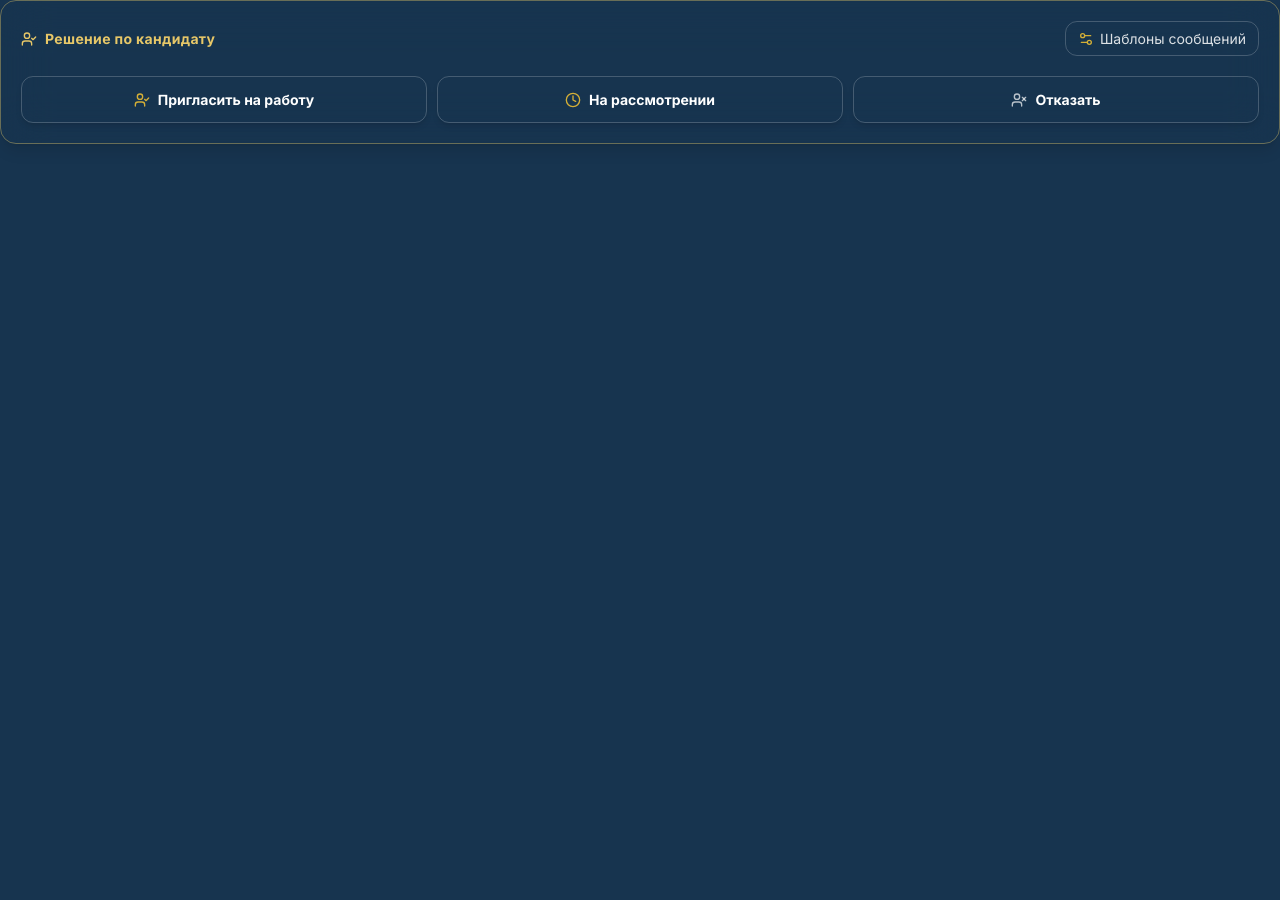
Test: CRM Decisions & Training Summary › loads custom decision templates, auto-selects last used template, and renders Apple Liquid Glass modal
The width and height of the screenshot is (1280, 900).
Step 1. Click the button "Пригласить на работу" → (224, 100), box top-left (21, 76), bottom-right (427, 123)
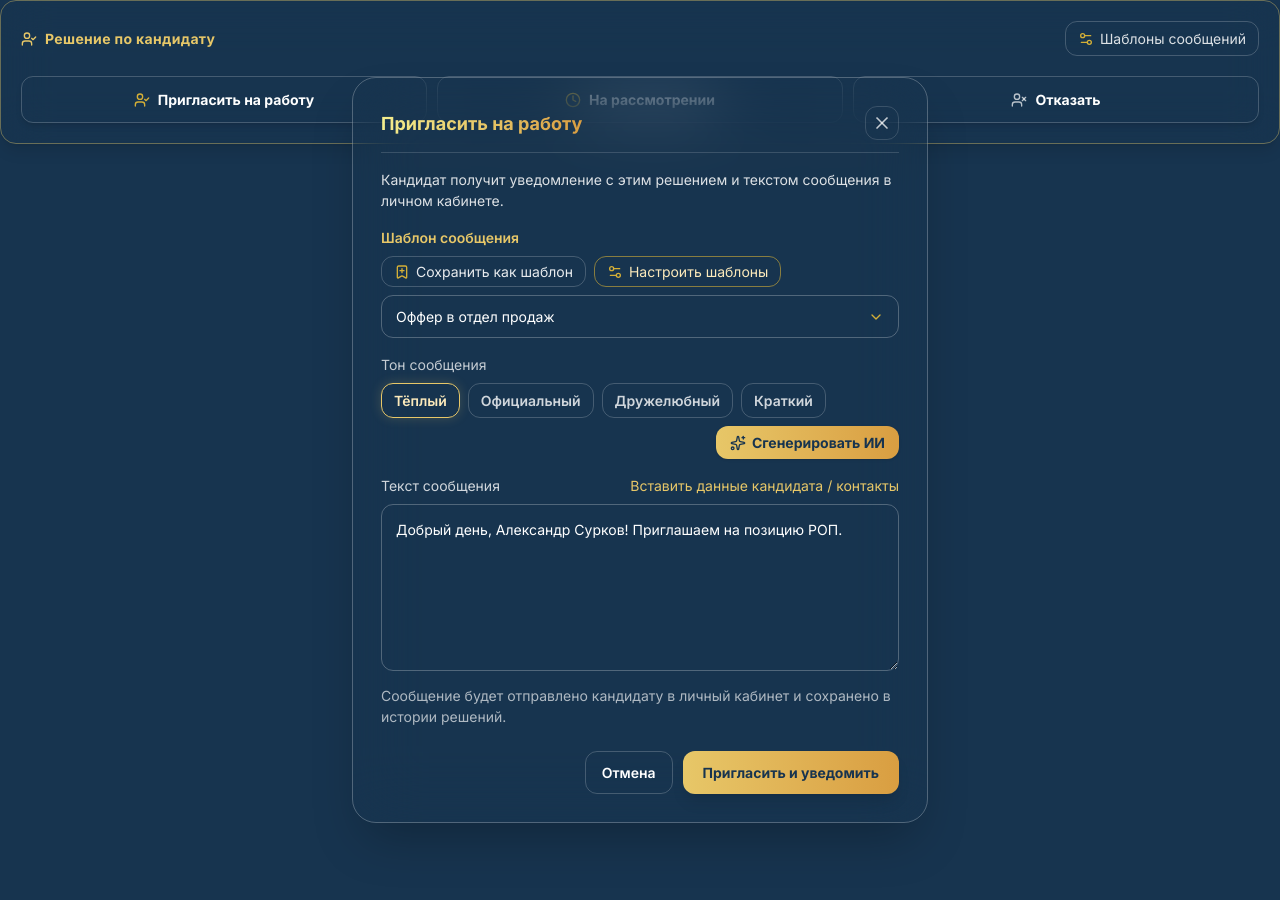
Expected: the button "Пригласить и уведомить" is shown, top-left (682, 751), bottom-right (899, 794)
Expected: the button "Оффер в отдел продаж" is shown, top-left (381, 295), bottom-right (899, 338)
